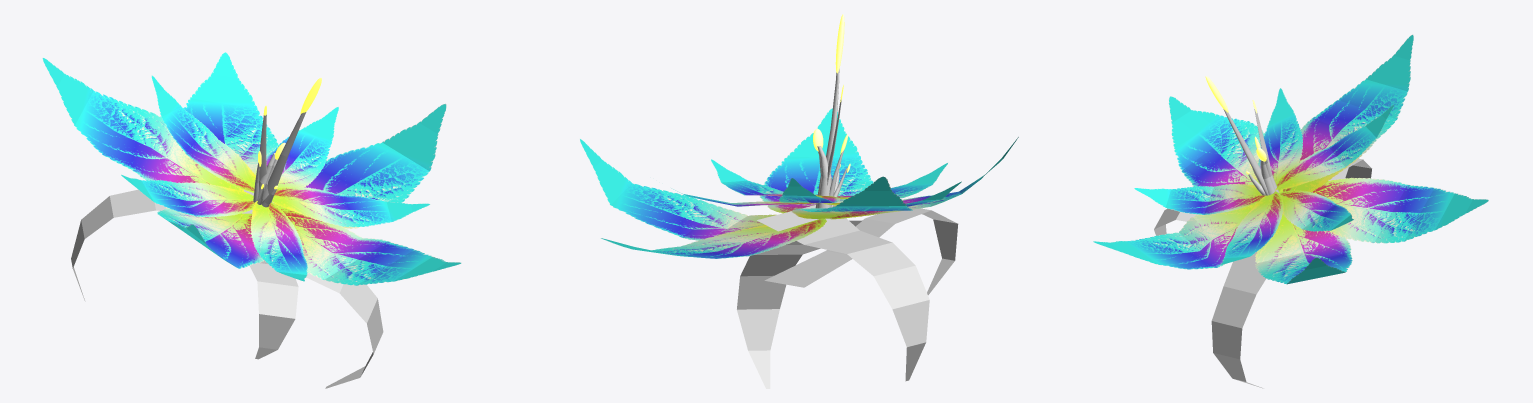
File: flower.fbx
3 renders of one model, left to right at view 1: azimuth 30°, elevation 25°; view 2: azimuth 150°, elevation 25°; view 3: azimuth 270°, elevation 25°, orthographic. The views are drawn at different scales.
Visible parts, largest first — view 1: Plane.002, Plane, Plane.004, Plane.001, Plane.008, Plane.005, Plane.007, Plane.003, Plane.015, Plane.006, Plane.009, Plane.014 (+2 smaller); view 2: Plane.014, Plane, Plane.016, Plane.004, Plane.015, Plane.001, Plane.002, Plane.005, Plane.008, Plane.006, Plane.003, Cylinder.004 (+2 smaller); view 3: Plane.001, Plane.002, Plane.003, Plane.004, Plane, Plane.016, Plane.008, Plane.006, Plane.007, Plane.005, Plane.009, Cylinder.005 (+2 smaller).
Part boxes in pixels (left/top/right/bottom): Plane.002: left=42, top=57, right=244, bottom=191; Plane: left=273, top=103, right=446, bottom=228; Plane.004: left=278, top=206, right=461, bottom=285; Plane.001: left=183, top=52, right=278, bottom=173; Plane.008: left=151, top=75, right=255, bottom=192; Plane.005: left=272, top=186, right=430, bottom=227; Plane.007: left=121, top=174, right=254, bottom=217; Plane.003: left=157, top=207, right=263, bottom=268; Plane.015: left=250, top=260, right=298, bottom=359; Plane.006: left=250, top=201, right=307, bottom=281; Plane.009: left=254, top=106, right=338, bottom=187; Plane.014: left=71, top=189, right=273, bottom=301; Plane.014: left=757, top=205, right=929, bottom=381; Plane: left=580, top=139, right=776, bottom=240; Plane.016: left=737, top=220, right=862, bottom=388; Plane.004: left=759, top=108, right=873, bottom=213; Plane.015: left=764, top=208, right=958, bottom=295; Plane.001: left=601, top=218, right=826, bottom=258; Plane.002: left=792, top=176, right=912, bottom=218; Plane.005: left=711, top=159, right=817, bottom=196; Plane.008: left=778, top=178, right=840, bottom=202; Plane.006: left=837, top=163, right=947, bottom=199; Plane.003: left=831, top=137, right=1018, bottom=219; Cylinder.004: left=817, top=146, right=831, bottom=208; Plane.001: left=1311, top=177, right=1488, bottom=243; Plane.002: left=1283, top=34, right=1413, bottom=191; Plane.003: left=1168, top=96, right=1283, bottom=192; Plane.004: left=1093, top=202, right=1282, bottom=269; Plane: left=1255, top=214, right=1352, bottom=284; Plane.016: left=1211, top=252, right=1265, bottom=388; Plane.008: left=1275, top=105, right=1393, bottom=190; Plane.006: left=1134, top=183, right=1265, bottom=215; Plane.007: left=1258, top=88, right=1302, bottom=191; Plane.005: left=1220, top=191, right=1283, bottom=264; Plane.009: left=1279, top=190, right=1353, bottom=231; Cylinder.005: left=1223, top=109, right=1268, bottom=195.
Bounding box in the file's own units: 318 × 247 × 347.
